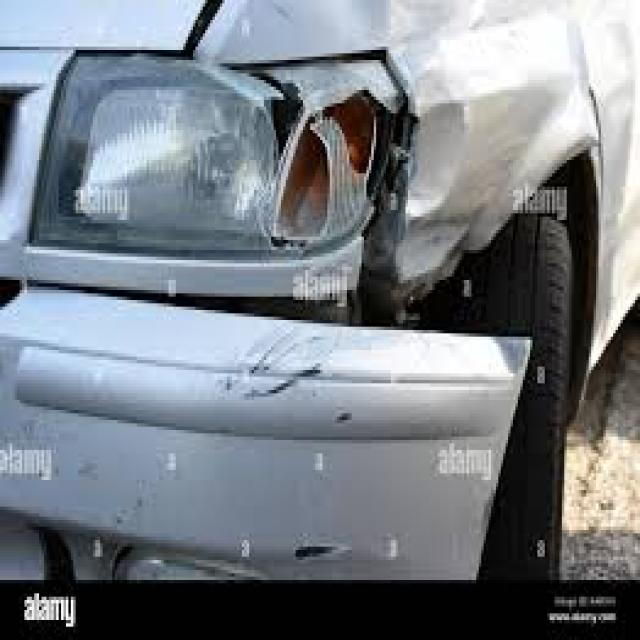damaged-head-light: (40, 36, 442, 264)
